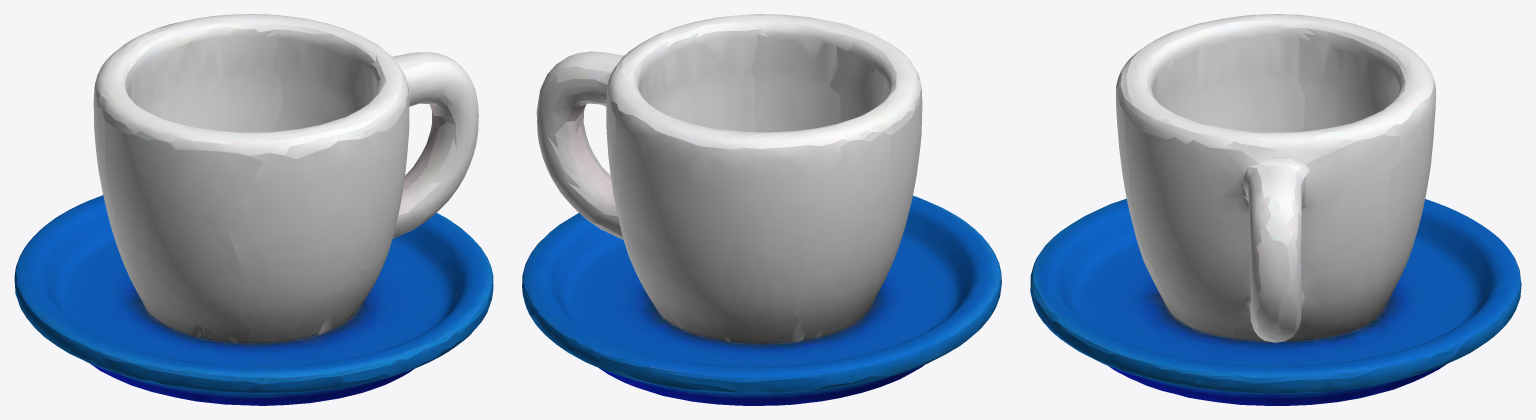
The model's file is i-teacup.glb.
The picture shows the model from 3 angles, left to right: view 1: azimuth 30°, elevation 25°; view 2: azimuth 150°, elevation 25°; view 3: azimuth 270°, elevation 25°; orthographic projection.
Parts seen in each view (by area): view 1: geometry_0; view 2: geometry_0; view 3: geometry_0.
Boxes of the visible parts, x1=… form: geometry_0: x1=14, y1=14, x2=493, y2=405; geometry_0: x1=522, y1=14, x2=1001, y2=405; geometry_0: x1=1030, y1=14, x2=1521, y2=405.
Bounding box in the file's own units: 0.14 × 0.0795 × 0.1397.
Materials: 1 (1 with a texture image).
